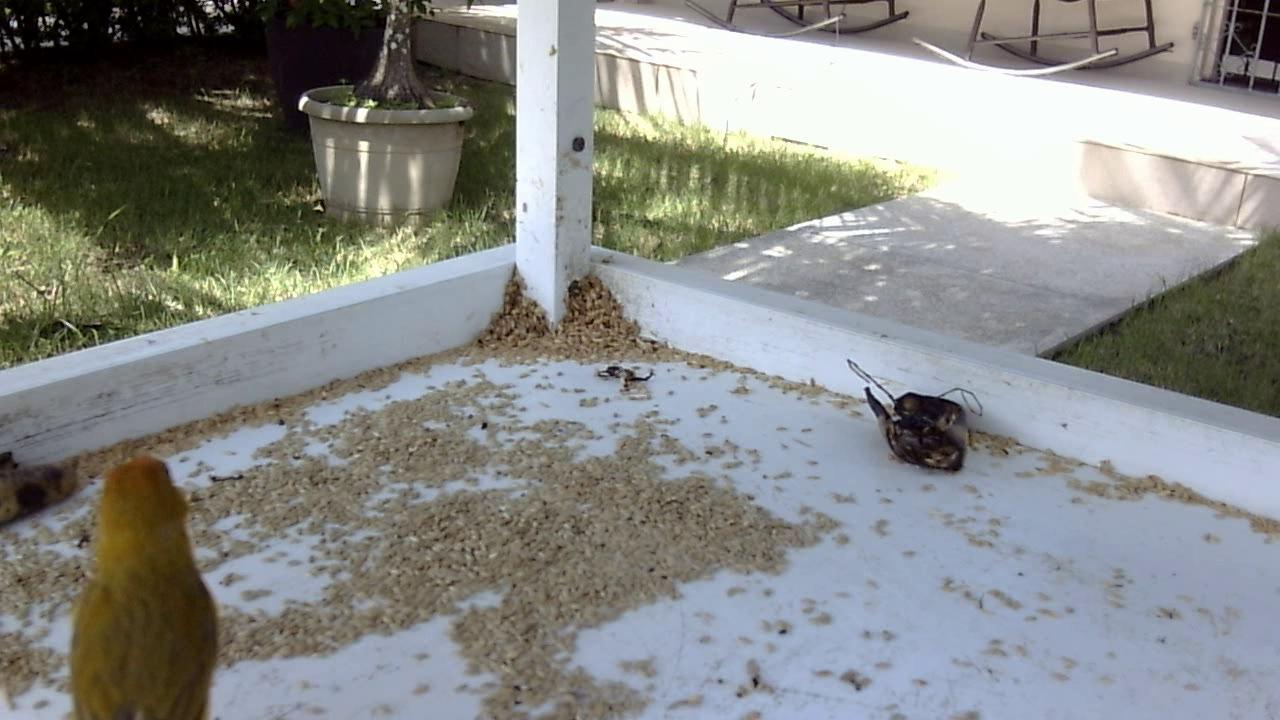canario_do_amazonas: (58, 444, 226, 715)
